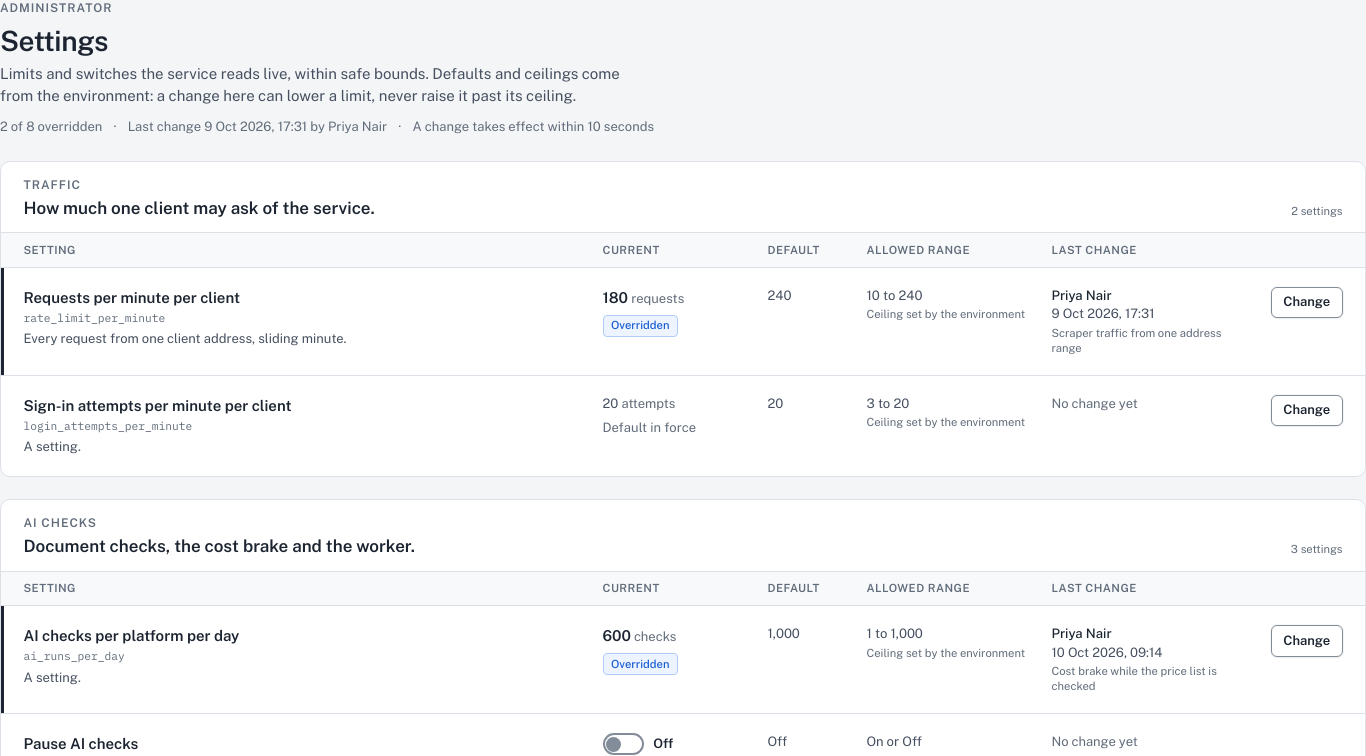
Scenario: admin settings page (US-101) › the change dialog › refuses a value outside the range with the server sentence, before asking for anything
Click the button with aria-label "Change Sign-in attempts per minute per client" at (1307, 410), box [1271,394,1342,426]
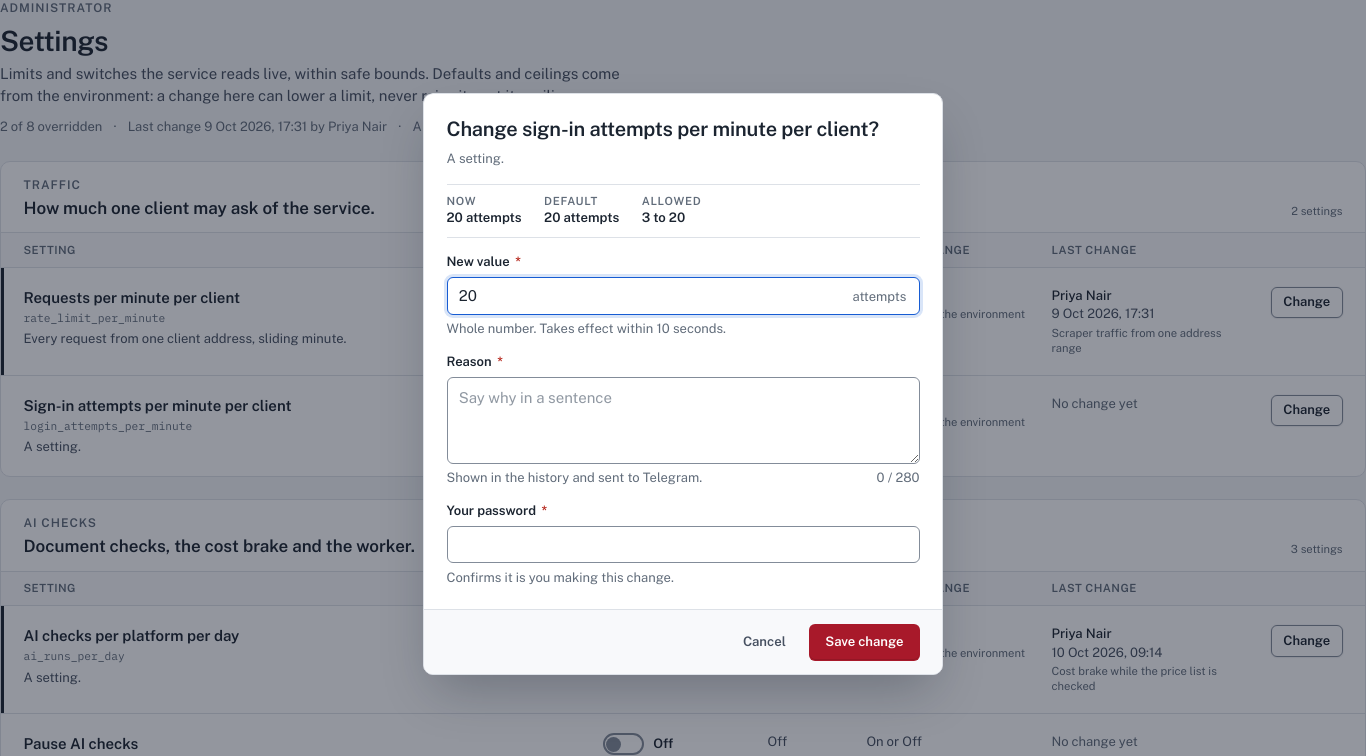
Replace the text in the field labelled "New value *" with "0" at (683, 296), box [446,277,920,314]
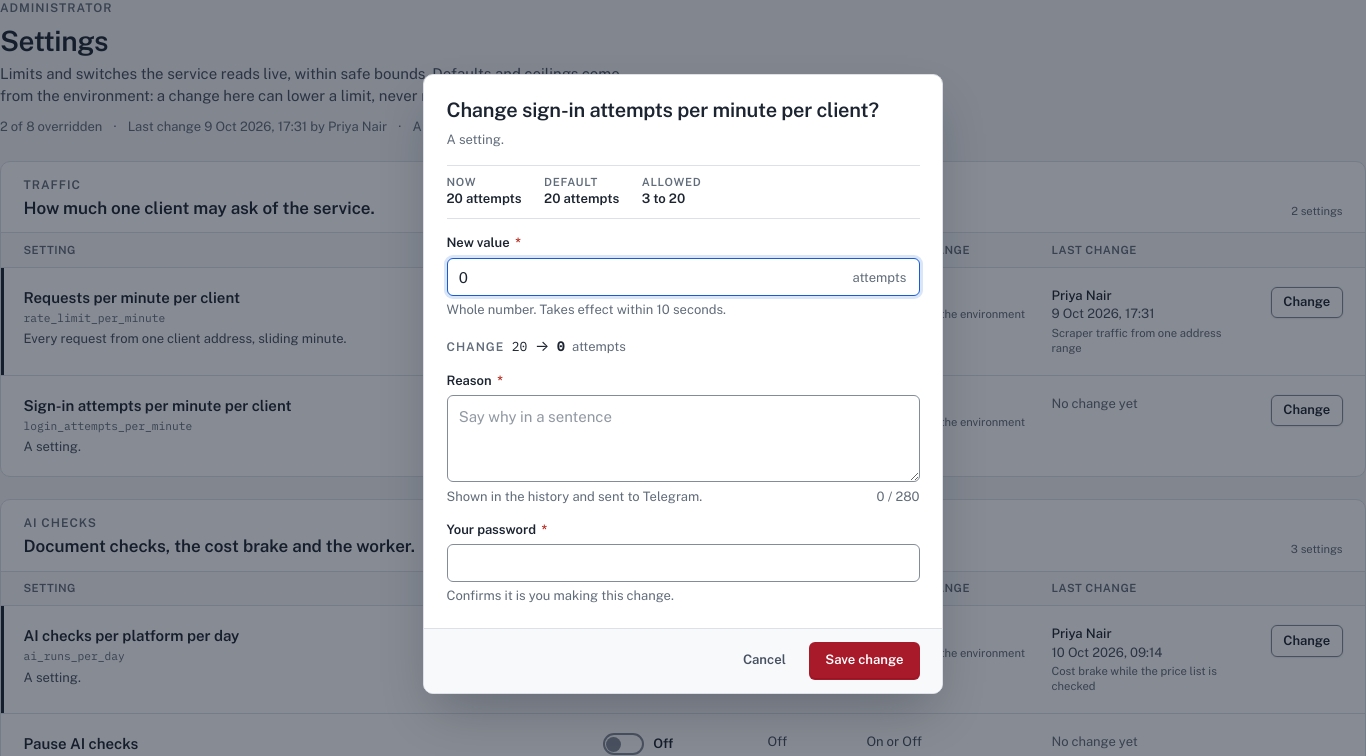
Click the button "Save change" at (864, 661), box [809,642,920,680]
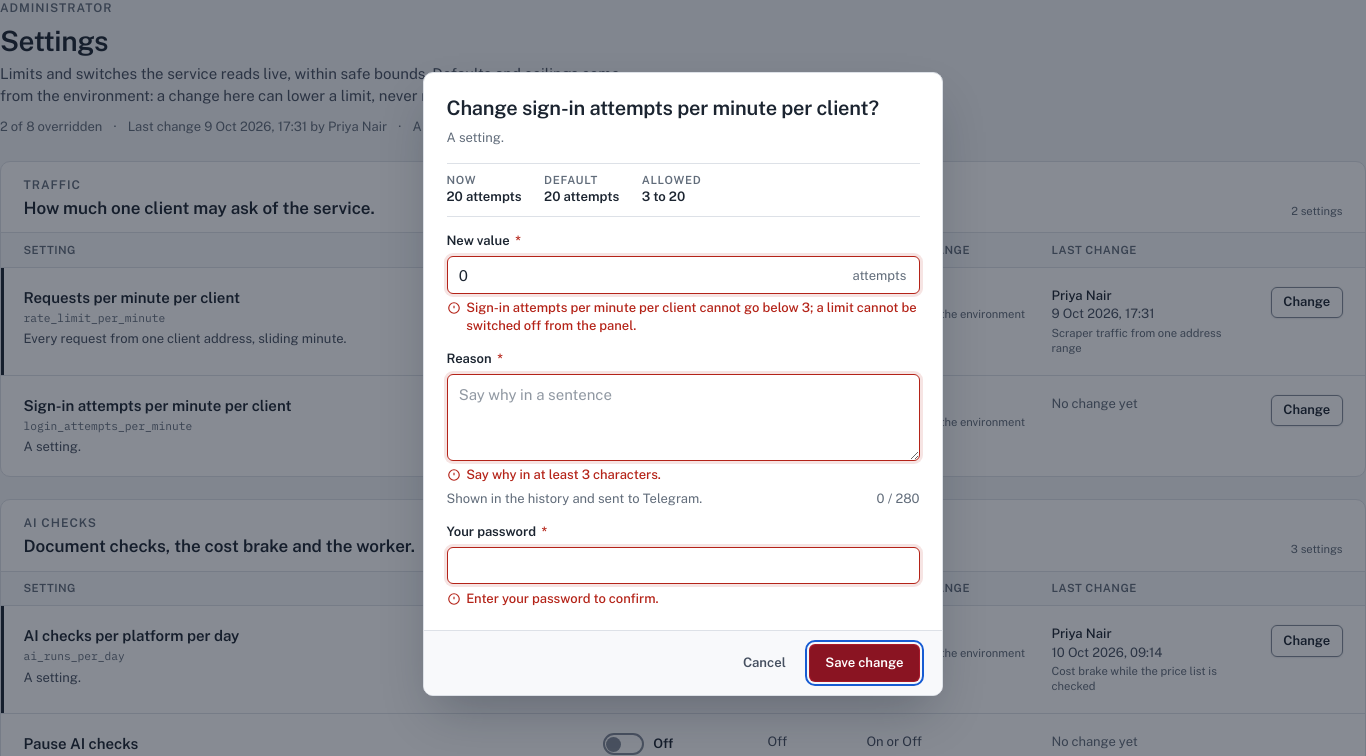
Now the text "Sign-in attempts per minute per client cannot go below 3; a limit cannot be switched off from the panel." is shown, box [466,300,917,333]
Now the text "Say why in at least 3 characters." is shown, box [466,466,661,484]
Now the text "Enter your password to confirm." is shown, box [466,590,659,608]
Clear the field labelled "New value *" at (683, 275), box [446,256,920,294]
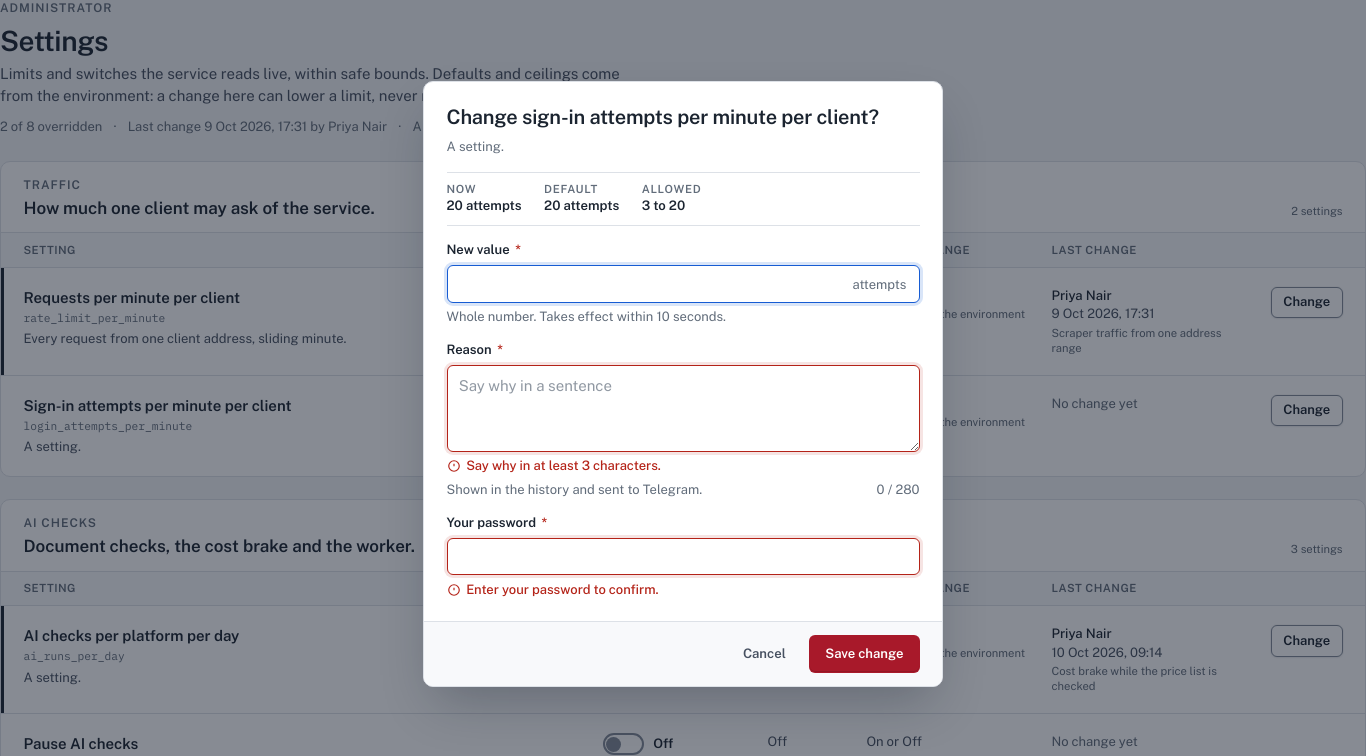
Type "25" into the field labelled "New value *" at (683, 284), box [446,265,920,303]
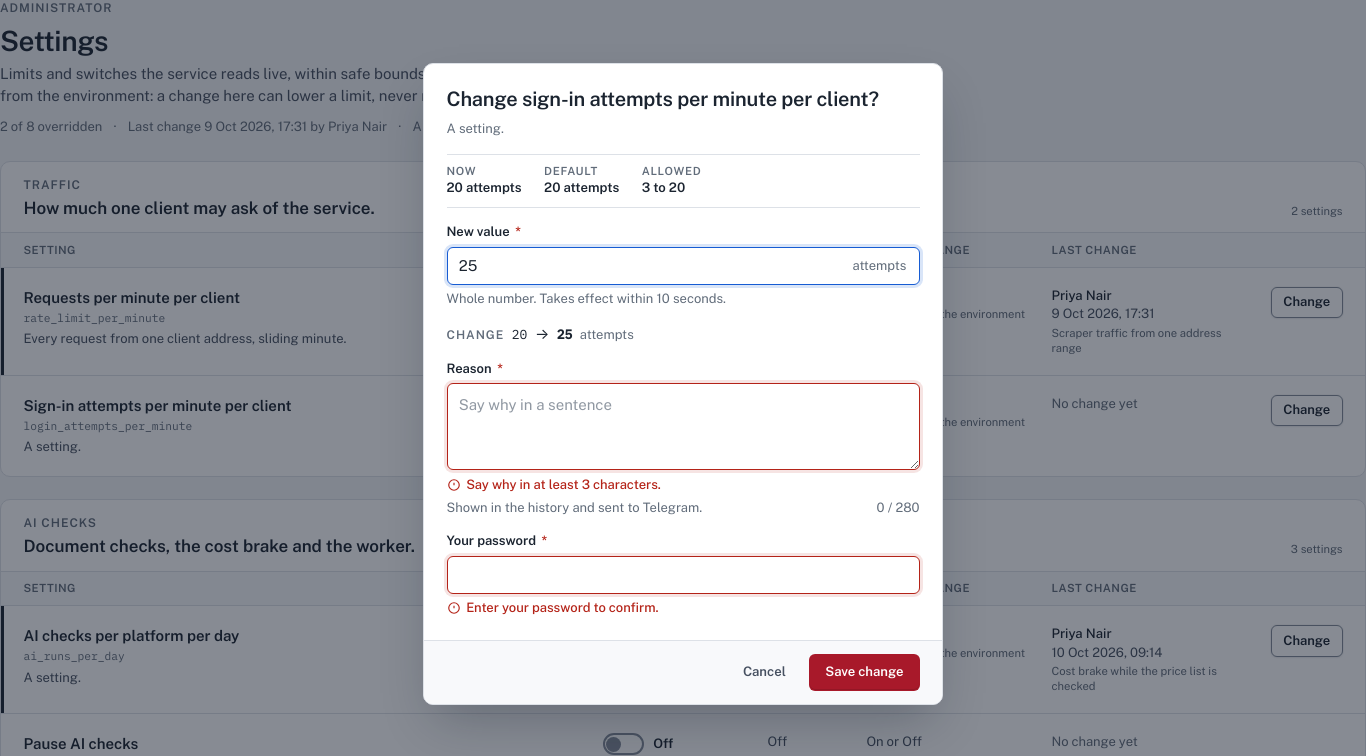
Click the button "Save change" at (864, 673), box [809,654,920,691]
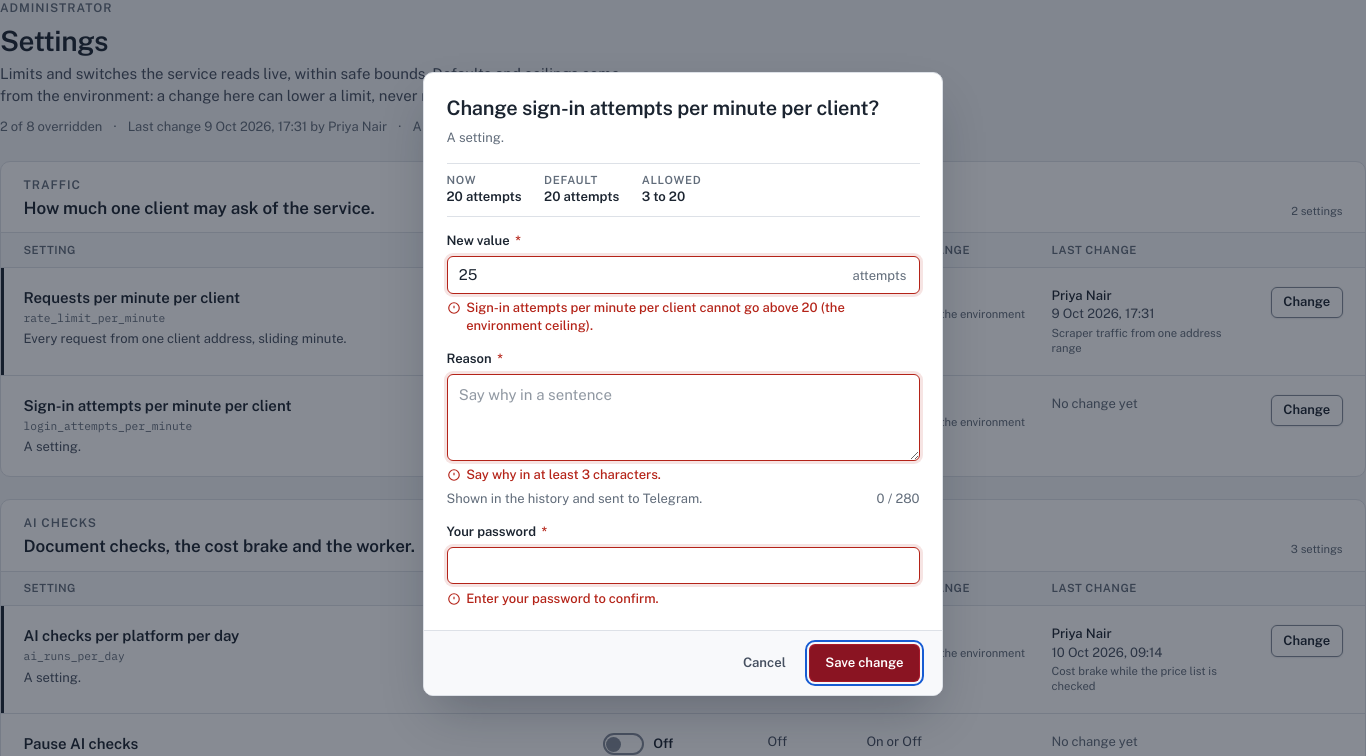
Now the text "Sign-in attempts per minute per client cannot go above 20 (the environment ceiling)." is shown, box [466,300,845,333]
